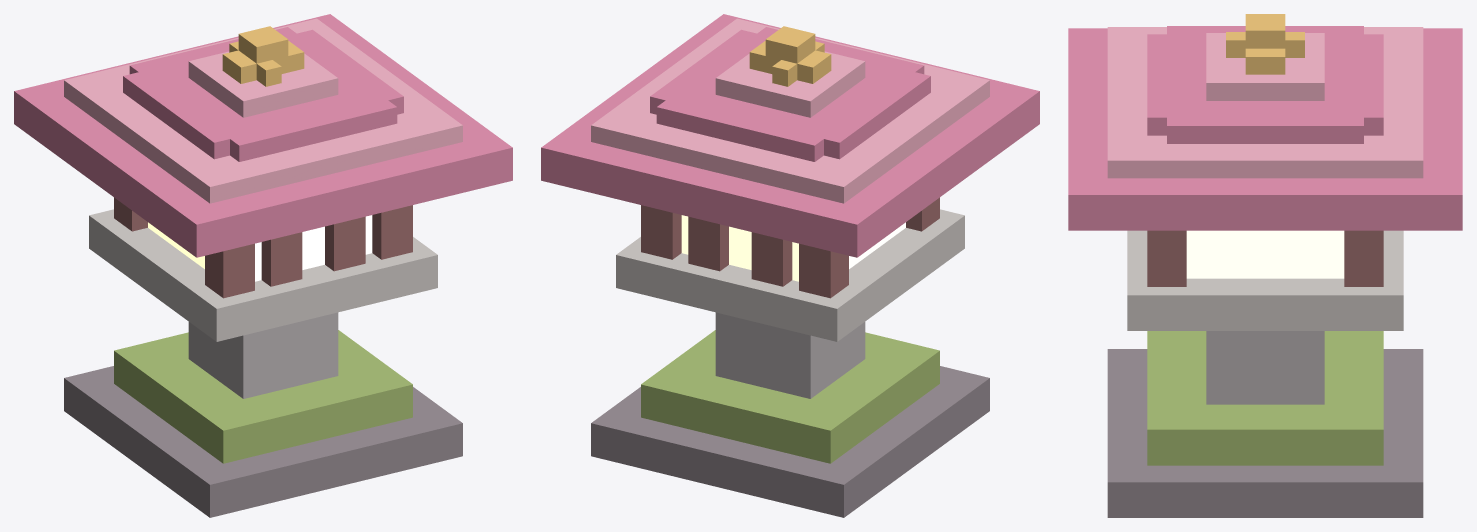
Rendered from sakura_garden_lantern.glb.
3 renders of one model, left to right at view 1: azimuth 30°, elevation 25°; view 2: azimuth 150°, elevation 25°; view 3: azimuth 270°, elevation 25°, orthographic. The views are drawn at different scales.
Bounding box in the file's own units: 0.8333 × 1 × 0.8333.
